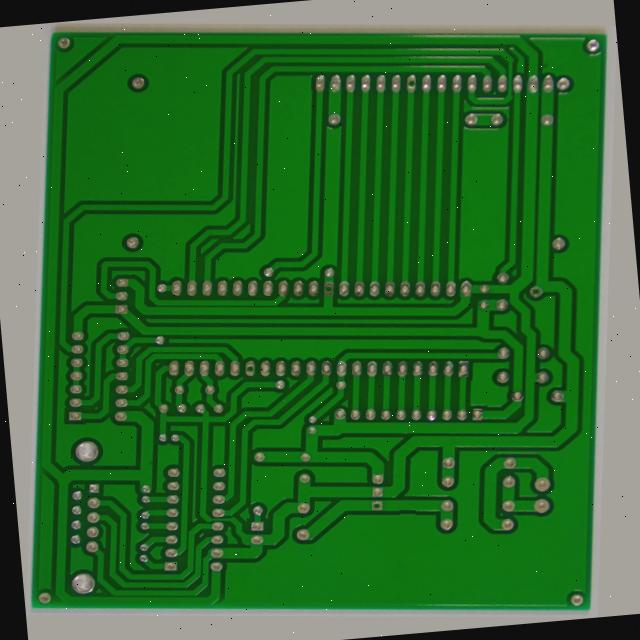missing_hole: (380, 47, 400, 66), (316, 276, 335, 295), (545, 259, 565, 277), (236, 370, 255, 388), (397, 508, 415, 519)
